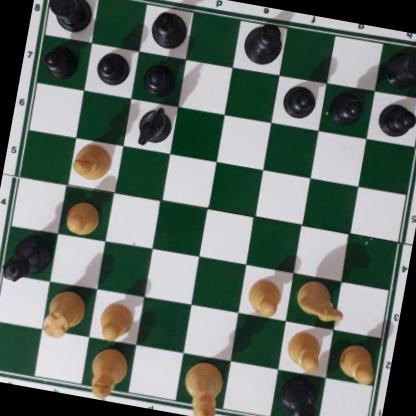black-bishop: (274, 373, 323, 416), (145, 9, 192, 53)
black-king: (239, 18, 287, 67)
black-knight: (133, 101, 176, 150)
black-pawn: (375, 98, 416, 140), (327, 88, 367, 127), (41, 41, 80, 78), (93, 48, 130, 87), (281, 80, 318, 119), (141, 58, 177, 97)
black-queen: (1, 229, 55, 290)
black-rook: (42, 0, 96, 34), (383, 43, 416, 92)
white-bishop: (87, 342, 131, 402), (69, 140, 115, 185)
white-king: (178, 358, 227, 416)
white-knight: (291, 277, 348, 324)
white-pawn: (281, 326, 325, 374), (335, 341, 380, 386), (95, 298, 136, 343), (61, 198, 103, 239), (244, 275, 283, 318)
white-rook: (38, 283, 90, 343)
